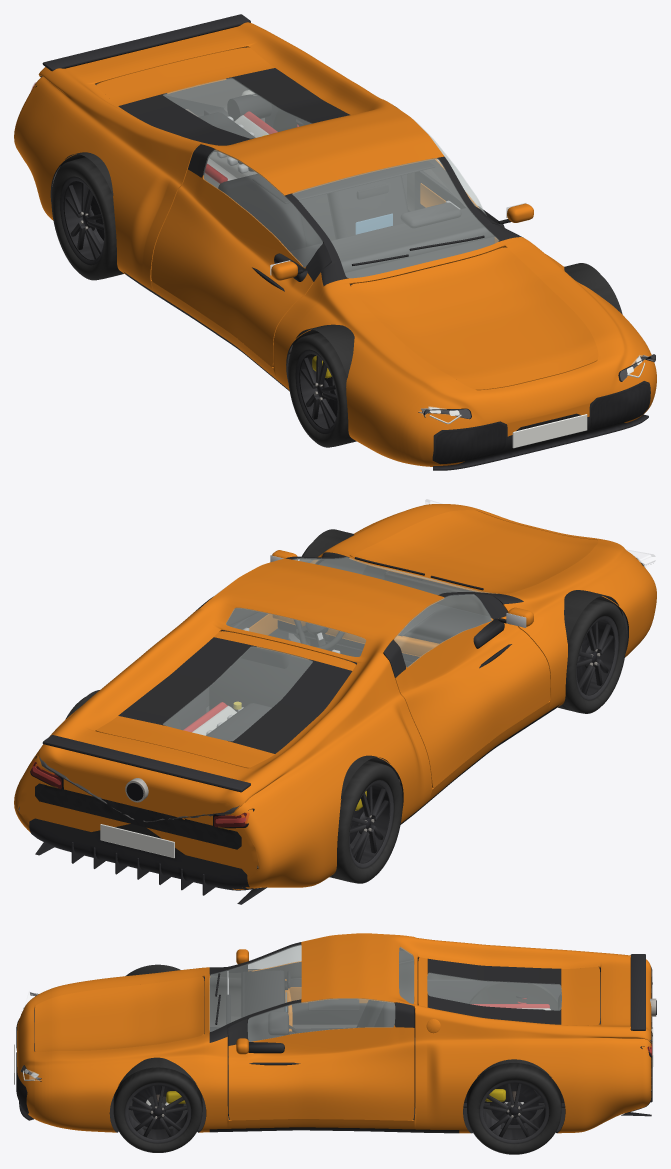
The model's file is revuelto.glb.
The picture shows the model from 3 angles, top to bottom: view 1: azimuth 30°, elevation 25°; view 2: azimuth 150°, elevation 25°; view 3: azimuth 270°, elevation 25°; orthographic projection. The views are drawn at different scales.
Parts seen in each view (by area): view 1: Body, Hood, Door_FR, Windshield, Tailgate, Dash_Top, Door_FR_Glass, Tailgate_Glass, Wheel_RR_Tire, Wheel_FR_Tire, Seat_FR_Back, Seat_FL_Back (+16 smaller); view 2: Body, Door_FR, Tailgate, Hood, Tailgate_Glass, Diffuser, Rear_Vents, Wheel_RR_Tire, Door_FR_Glass, Firewall_Rear, RearScreen, Wheel_FR_Tire (+16 smaller); view 3: Body, Door_FL, Hood, Tailgate, Windshield, Door_FL_Glass, Wheel_RL_Tire, Tailgate_Glass, Wheel_FL_Tire, Dash_Top, Door_FR, WheelWell_RR (+17 smaller).
Part boxes in pixels (x1=…): Body: x1=14, y1=22, x2=656, y2=466; Hood: x1=351, y1=247, x2=598, y2=390; Door_FR: x1=151, y1=144, x2=331, y2=367; Windshield: x1=292, y1=158, x2=498, y2=277; Tailgate: x1=96, y1=47, x2=349, y2=145; Dash_Top: x1=274, y1=206, x2=504, y2=281; Door_FR_Glass: x1=203, y1=149, x2=322, y2=267; Tailgate_Glass: x1=163, y1=78, x2=312, y2=138; Wheel_RR_Tire: x1=51, y1=157, x2=123, y2=280; Wheel_FR_Tire: x1=288, y1=332, x2=356, y2=447; Seat_FR_Back: x1=218, y1=174, x2=306, y2=250; Seat_FL_Back: x1=327, y1=176, x2=408, y2=239; Body: x1=14, y1=504, x2=656, y2=889; Door_FR: x1=383, y1=594, x2=550, y2=787; Tailgate: x1=96, y1=631, x2=355, y2=768; Hood: x1=351, y1=510, x2=598, y2=593; Tailgate_Glass: x1=163, y1=646, x2=312, y2=740; Diffuser: x1=29, y1=818, x2=267, y2=904; Rear_Vents: x1=35, y1=783, x2=241, y2=849; Wheel_RR_Tire: x1=329, y1=760, x2=402, y2=883; Door_FR_Glass: x1=394, y1=594, x2=491, y2=667; Firewall_Rear: x1=209, y1=655, x2=399, y2=778; RearScreen: x1=226, y1=608, x2=365, y2=656; Wheel_FR_Tire: x1=558, y1=598, x2=626, y2=713; Body: x1=17, y1=933, x2=652, y2=1133; Door_FL: x1=228, y1=1002, x2=414, y2=1120; Hood: x1=35, y1=976, x2=204, y2=1051; Tailgate: x1=418, y1=957, x2=600, y2=1025; Windshield: x1=209, y1=944, x2=301, y2=1031; Door_FL_Glass: x1=248, y1=998, x2=394, y2=1041; Wheel_RL_Tire: x1=467, y1=1063, x2=561, y2=1154; Tailgate_Glass: x1=427, y1=973, x2=561, y2=1010; Wheel_FL_Tire: x1=113, y1=1067, x2=202, y2=1152; Dash_Top: x1=241, y1=969, x2=284, y2=1053; Door_FR: x1=228, y1=948, x2=413, y2=1016; WheelWell_RR: x1=468, y1=982, x2=557, y2=1010.
Bounding box in the file's own units: 2.05 × 1.18 × 5.02.
